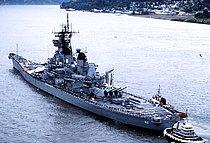MIL_Ship: (6, 22, 187, 132)
